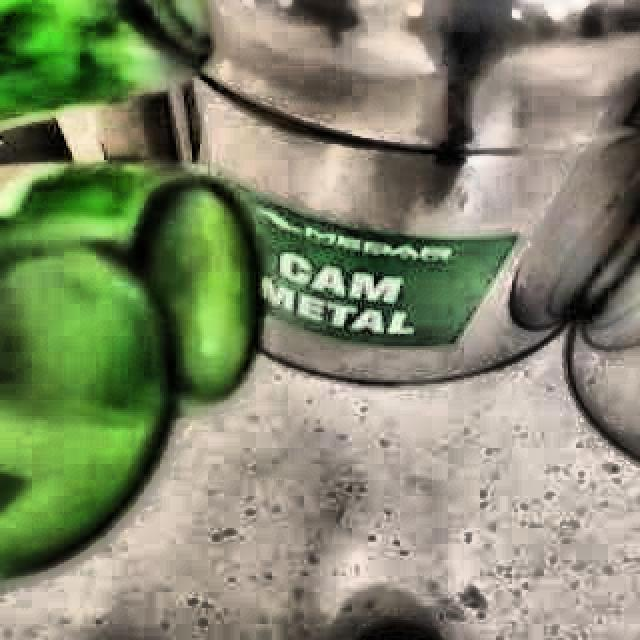glass: (0, 164, 261, 581)
